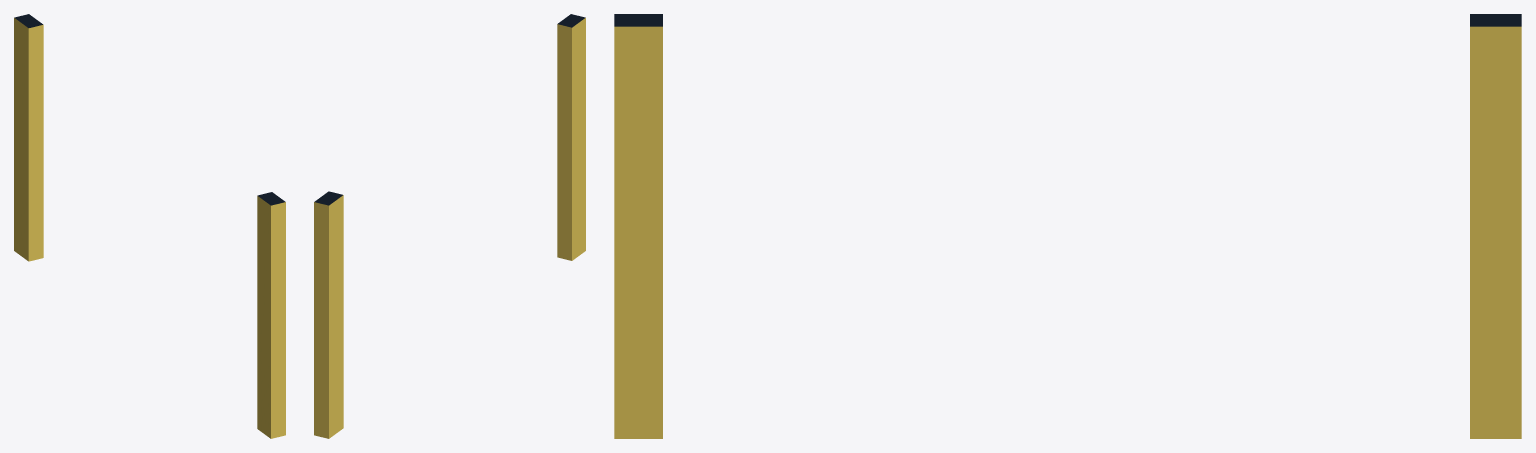
Rendered from Porte_Double_Mur3.FBX.
The picture shows the model from 3 angles, left to right: view 1: azimuth 30°, elevation 25°; view 2: azimuth 150°, elevation 25°; view 3: azimuth 270°, elevation 25°; orthographic projection. The views are drawn at different scales.
Parts seen in each view (by area): view 1: Porte_Double_Mur3; view 2: Porte_Double_Mur3; view 3: Porte_Double_Mur3.
Boxes of the visible parts, <box> form: Porte_Double_Mur3: <box>14,14,285,438</box>; Porte_Double_Mur3: <box>314,14,585,438</box>; Porte_Double_Mur3: <box>614,14,1521,438</box>.
Size of the model in its own units: 0.1 by 1.5 by 2.99.
